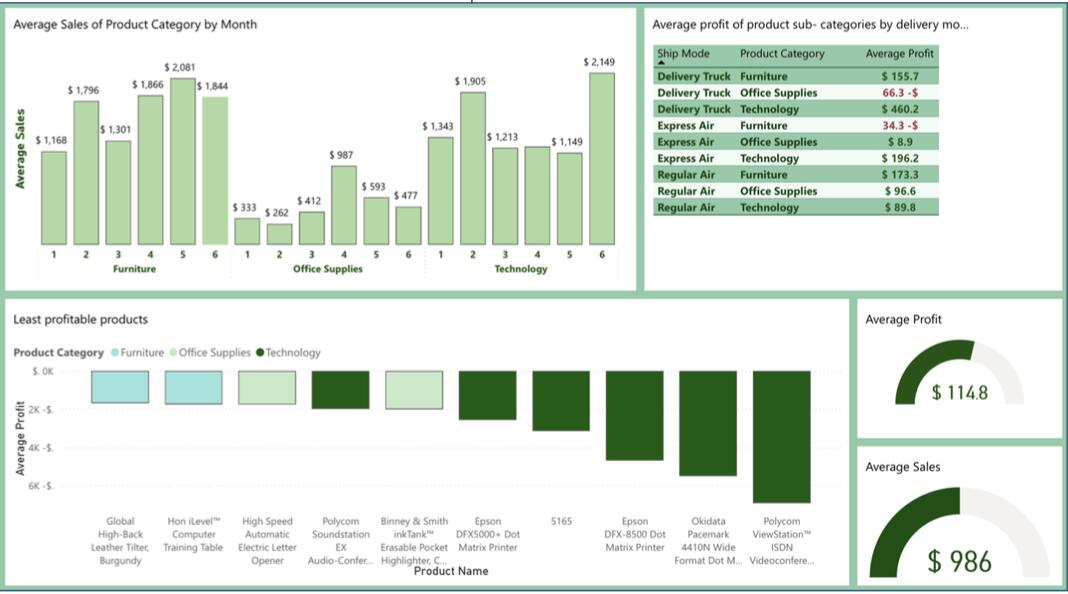

Layout of this report page (visuals, bound fields, positions):
{"tool":"powerbi","page":{"name":"Page 3","canvas":[1600,1100],"ordinal":3},"visuals":[{"type":"tableEx","title":"Average profit of product sub- categories by delivery mode","fields":{"Values":["Orders.Ship Mode","Orders.Product Category","Avg(Orders.Profit)"]},"box":[1024.5,284.8,407.4,286.8],"z":0},{"type":"gauge","title":"Average Sales","fields":{"Y":["Avg(Orders.Sales)"]},"box":[1311.2,112.7,227.4,152.3],"z":1000},{"type":"shape","box":[0,0,1600,79.1],"z":2000},{"type":"lineClusteredColumnComboChart","title":"Average Sales of Product Category by Month","fields":{"Category":["Orders.Product Category","Orders.Month_Number"],"Y":["Avg(Orders.Sales)"]},"box":[39.6,91.5,919.1,517.6],"z":3000},{"type":"gauge","title":"Average Profit","fields":{"Y":["Avg(Orders.Profit)"]},"box":[1024.2,113.3,222.6,137.9],"z":4000},{"type":"columnChart","title":"Least profitable products","fields":{"Category":["Orders.Product Name"],"Y":["Avg(Orders.Profit)"],"Series":["Orders.Product Category"]},"box":[17.8,650.7,1293.4,415.3],"z":5000}]}

Visuals, with their boxes on the page's 1600x1100 design canvas (x1, y1, x2, y2). These are canvas units, not pixel positions in the 1068x594 screenshot, which may show the page scaled, cropped or inside an application window:
"Average profit of product sub- categories by delivery mode" tableEx: 1024, 285, 1432, 572
"Average Sales" gauge: 1311, 113, 1539, 265
shape: 0, 0, 1600, 79
"Average Sales of Product Category by Month" lineClusteredColumnComboChart: 40, 92, 959, 609
"Average Profit" gauge: 1024, 113, 1247, 251
"Least profitable products" columnChart: 18, 651, 1311, 1066
